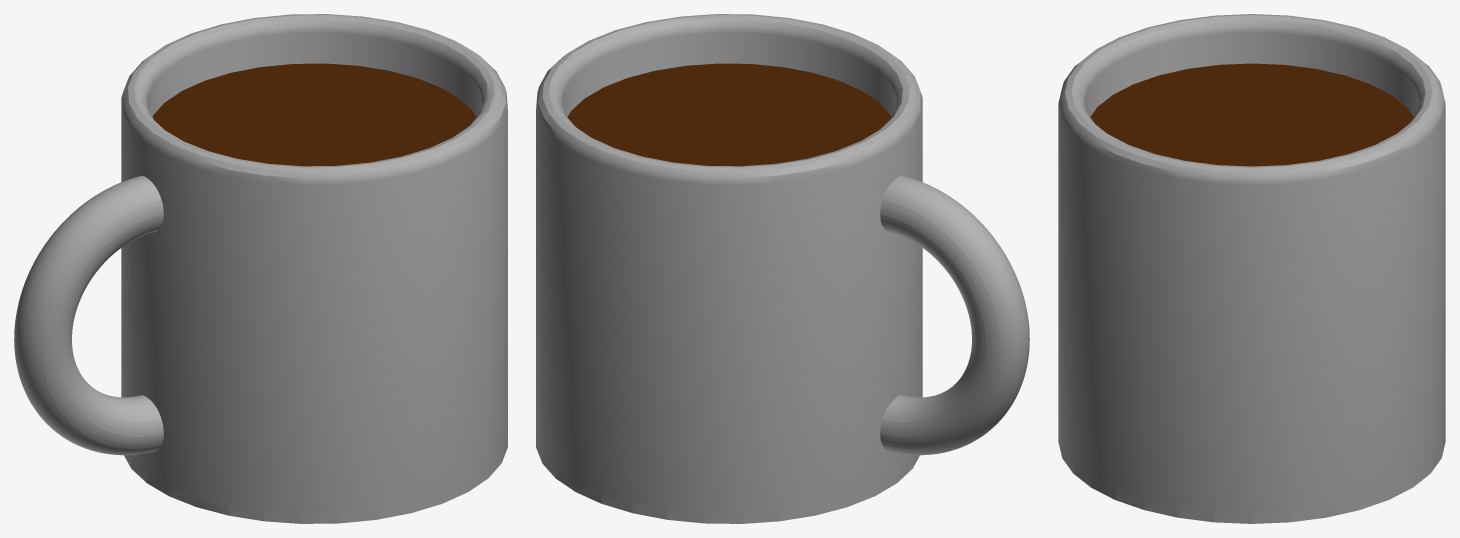
File: mug_with_coffee.glb
The picture shows the model from 3 angles, left to right: view 1: azimuth 30°, elevation 25°; view 2: azimuth 150°, elevation 25°; view 3: azimuth 270°, elevation 25°; orthographic projection.
Parts seen in each view (by area): view 1: Circle_0, Cylinder_1; view 2: Circle_0, Cylinder_1; view 3: Circle_0, Cylinder_1.
Boxes of the visible parts, bbox=[...] form: Circle_0: bbox=[14, 14, 507, 523]; Cylinder_1: bbox=[152, 63, 476, 166]; Circle_0: bbox=[536, 14, 1029, 523]; Cylinder_1: bbox=[567, 63, 891, 166]; Circle_0: bbox=[1058, 14, 1445, 523]; Cylinder_1: bbox=[1090, 63, 1413, 166].
Bounding box in the file's own units: 0.2394 × 0.173 × 0.173.
